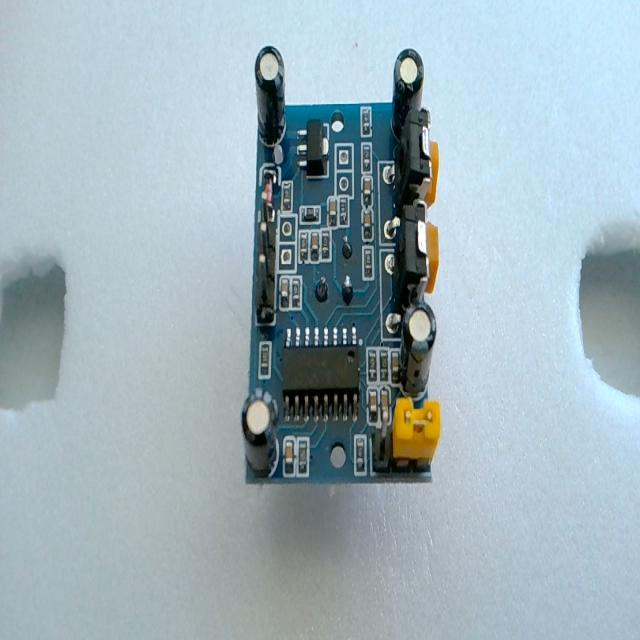Electrolytic capacitor: (399, 303, 437, 398), (240, 389, 278, 478), (254, 46, 287, 146), (392, 48, 424, 141)
IC: (282, 342, 360, 424)
pinheader: (255, 196, 278, 321)
